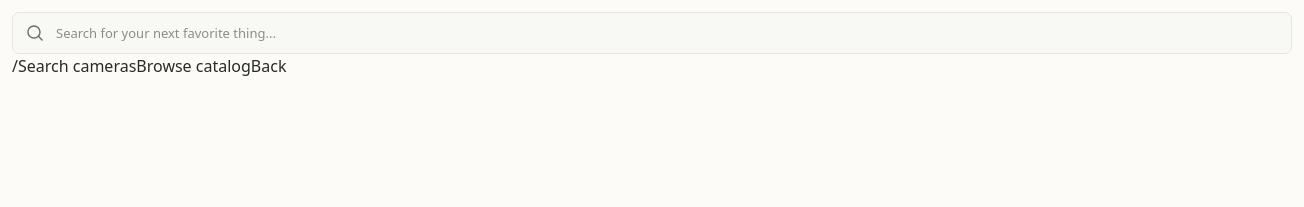
Test: ProductSearchBar › reports unavailable suggestions and still allows a full catalog search
Type "headphones" into the dropdown named "Search products".
click(674, 33); type("headphones")  # box [56,13,1291,53]
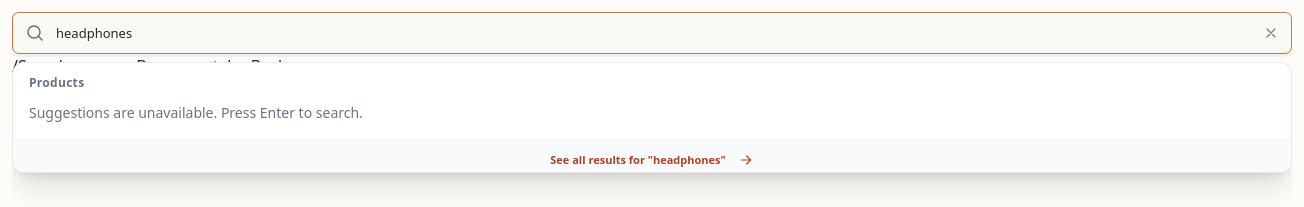
Result: the message shows "Suggestions are unavailable" at [29,103,363,122]
Press Enter
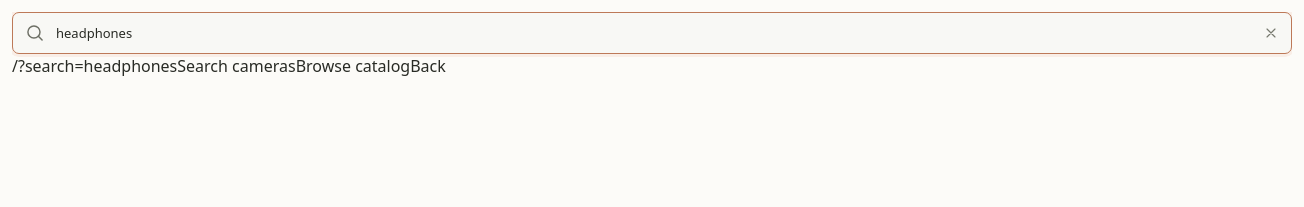
Result: the text named "Current route" reads "/?search=headphones" at [18,55,177,77]
